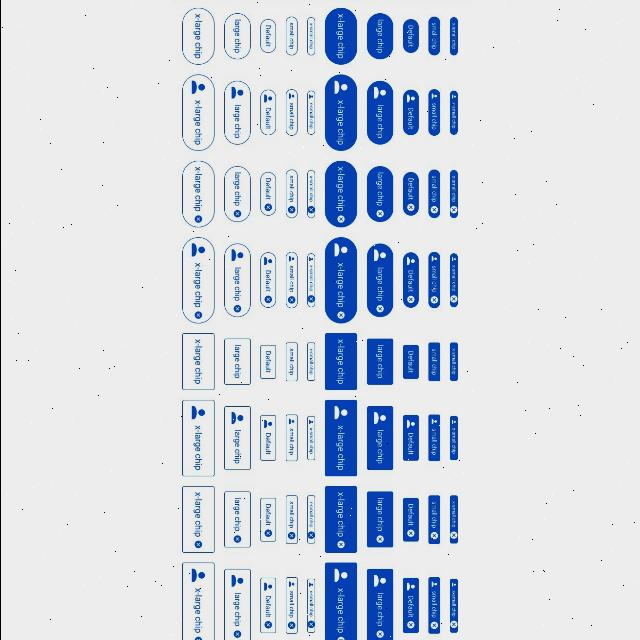QLabel: (191, 422, 201, 471), (334, 423, 344, 471), (334, 339, 344, 387), (334, 165, 344, 213), (334, 586, 344, 634), (334, 98, 344, 146), (191, 98, 201, 146), (191, 338, 201, 386), (334, 14, 344, 61), (334, 492, 344, 538), (334, 262, 344, 308), (374, 264, 384, 304), (374, 589, 384, 629), (374, 426, 384, 466), (192, 13, 200, 61), (192, 586, 200, 634), (192, 490, 200, 538), (374, 342, 384, 380), (374, 18, 384, 56), (374, 102, 384, 140), (192, 165, 200, 212), (192, 262, 200, 308), (374, 171, 384, 207), (232, 590, 240, 630), (232, 342, 240, 380), (232, 427, 240, 465), (232, 101, 240, 139), (375, 496, 383, 532), (232, 18, 240, 54), (232, 496, 240, 532), (232, 266, 240, 302), (232, 172, 240, 206), (286, 347, 294, 377), (286, 428, 294, 457), (429, 427, 436, 457), (406, 430, 414, 456), (406, 502, 414, 528), (406, 268, 414, 294), (406, 176, 414, 202), (406, 23, 414, 49), (429, 499, 436, 528), (429, 590, 436, 618), (406, 594, 414, 618), (406, 350, 414, 374), (406, 106, 414, 130), (430, 101, 436, 132), (287, 101, 293, 131), (450, 174, 456, 204), (450, 263, 456, 293), (430, 347, 436, 377), (430, 21, 436, 51), (450, 426, 456, 456), (430, 264, 436, 294), (450, 499, 456, 528), (430, 174, 436, 203), (287, 265, 293, 293), (287, 174, 293, 202), (450, 102, 456, 130), (307, 427, 313, 455), (450, 22, 456, 50), (288, 590, 294, 618), (287, 500, 293, 528), (287, 22, 293, 50), (450, 347, 456, 375), (450, 590, 456, 616), (264, 176, 270, 202), (264, 430, 270, 456), (264, 23, 270, 49), (264, 106, 270, 132), (264, 502, 270, 528), (264, 270, 270, 294), (264, 350, 270, 374), (264, 594, 270, 618), (308, 20, 312, 52), (308, 590, 312, 618), (308, 102, 312, 130), (308, 264, 312, 292), (308, 500, 312, 528), (308, 347, 312, 375), (308, 175, 312, 202)
VChip: (180, 236, 212, 324), (324, 238, 356, 324), (179, 562, 213, 640), (322, 399, 356, 476), (324, 562, 356, 640), (180, 399, 212, 477), (180, 75, 212, 152), (324, 76, 356, 150), (323, 485, 357, 553), (324, 160, 356, 228), (180, 160, 212, 228), (181, 486, 213, 552), (222, 568, 250, 640), (222, 244, 250, 316), (366, 243, 392, 317), (180, 7, 213, 65), (180, 334, 213, 391), (366, 568, 392, 640), (324, 7, 356, 65), (324, 332, 356, 390), (222, 406, 250, 470), (222, 80, 250, 144), (366, 406, 392, 470), (366, 81, 392, 145), (222, 166, 250, 222), (222, 492, 250, 548), (366, 490, 392, 548), (366, 166, 392, 222), (222, 338, 250, 386), (222, 13, 250, 59), (366, 338, 392, 386), (366, 13, 392, 59), (258, 578, 276, 634), (402, 252, 418, 308), (402, 577, 418, 633), (259, 252, 275, 308), (259, 89, 275, 137), (402, 415, 418, 461), (402, 90, 418, 136), (259, 415, 275, 461), (402, 172, 418, 216), (402, 498, 418, 542), (259, 172, 275, 216), (259, 498, 275, 542), (284, 252, 296, 310), (284, 576, 296, 634), (427, 576, 439, 634), (427, 252, 439, 308), (426, 414, 439, 462), (284, 170, 296, 218), (284, 496, 296, 544), (284, 88, 296, 136), (427, 88, 439, 136), (427, 496, 439, 544), (284, 414, 296, 462), (427, 170, 439, 218), (259, 345, 275, 379), (402, 345, 418, 379), (259, 19, 275, 53), (402, 19, 418, 53), (426, 16, 439, 56), (284, 342, 296, 382), (284, 16, 296, 56), (427, 343, 439, 381), (448, 416, 458, 460), (306, 579, 314, 633), (449, 579, 457, 633), (449, 253, 457, 307), (306, 253, 314, 307), (306, 494, 314, 544), (449, 170, 457, 218), (449, 495, 457, 543), (306, 170, 314, 218), (449, 91, 457, 135), (306, 416, 314, 460), (306, 91, 314, 135), (306, 342, 314, 382), (306, 16, 314, 56), (449, 342, 457, 381), (449, 17, 457, 55)
VIcon: (332, 242, 346, 258), (190, 242, 203, 258), (372, 248, 386, 262), (332, 80, 346, 94), (332, 406, 346, 420), (333, 568, 347, 582), (372, 412, 386, 424), (190, 568, 202, 582), (230, 248, 242, 262), (190, 80, 202, 94), (190, 406, 202, 420), (373, 574, 385, 586), (373, 86, 385, 98), (230, 574, 242, 586), (230, 411, 242, 423), (230, 87, 242, 99), (406, 419, 414, 429), (405, 581, 413, 591), (263, 582, 271, 592), (406, 256, 414, 266), (263, 256, 271, 266), (263, 419, 271, 428), (406, 94, 414, 102), (406, 621, 414, 629), (406, 296, 414, 304), (406, 203, 414, 211), (406, 529, 414, 537), (374, 535, 382, 543), (429, 296, 437, 304), (336, 215, 344, 223), (232, 210, 240, 218), (286, 296, 294, 304), (286, 206, 294, 214), (192, 311, 200, 319), (286, 532, 294, 540), (232, 630, 240, 638), (306, 206, 314, 214), (192, 540, 200, 548), (263, 95, 271, 103), (263, 203, 271, 211), (375, 305, 383, 313), (263, 296, 271, 304), (449, 295, 456, 303), (449, 206, 456, 214), (429, 622, 436, 630), (429, 206, 436, 214), (192, 215, 200, 222), (376, 630, 382, 638), (376, 210, 382, 218), (336, 311, 342, 319), (336, 540, 342, 548), (450, 620, 456, 628), (264, 529, 270, 537), (430, 580, 436, 588), (232, 536, 240, 542), (286, 622, 294, 628), (262, 622, 270, 628), (232, 306, 240, 312), (449, 532, 456, 538), (429, 532, 436, 538), (429, 418, 436, 424), (307, 532, 313, 538), (307, 296, 313, 302), (287, 581, 293, 587), (430, 93, 436, 99), (287, 93, 293, 99), (430, 256, 436, 262), (287, 256, 293, 262), (336, 636, 344, 640), (193, 636, 200, 640), (450, 582, 456, 586), (308, 621, 312, 627), (450, 94, 456, 98), (450, 257, 456, 261), (308, 256, 312, 262), (450, 420, 456, 424), (287, 420, 293, 424), (308, 581, 312, 587), (308, 94, 312, 98), (308, 420, 312, 424)
